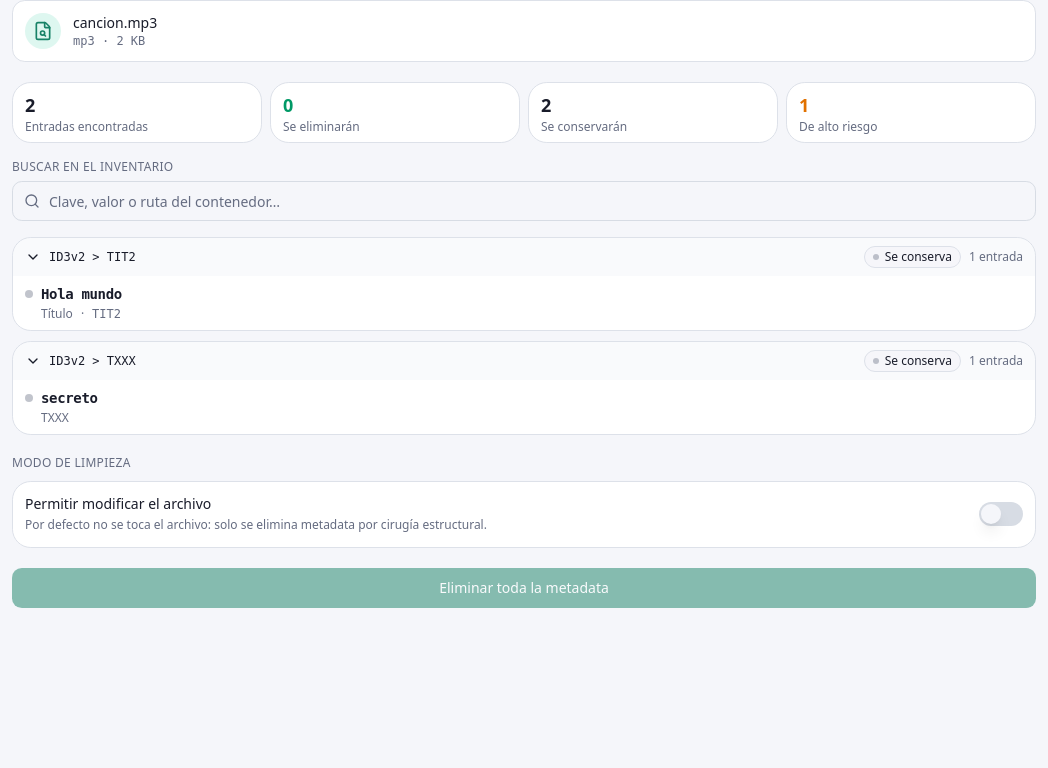
Test case: <MetaStripView /> — inventario › filtra por clave, valor o ruta y muestra el estado sin resultados
This screenshot has width=1048, height=768.
Type "secreto" into the search field labelled "Buscar en el inventario". click: (524, 201)
box: [12,181,1036,221]
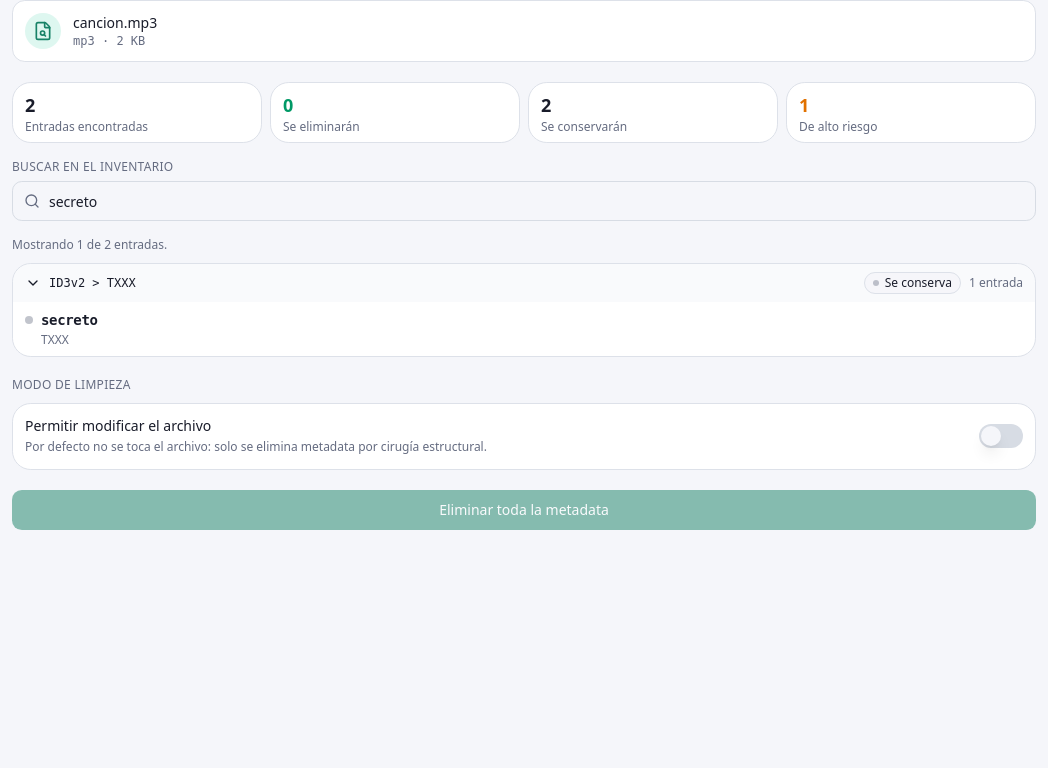
expect the text "secreto" is shown: met, box [41,310,98,330]
expect the text "Hola mundo" is gone: met
Replace the text in the search field labelled "Buscar en el inventario" with "no-existe-xyz". click: (524, 201)
box: [12,181,1036,221]
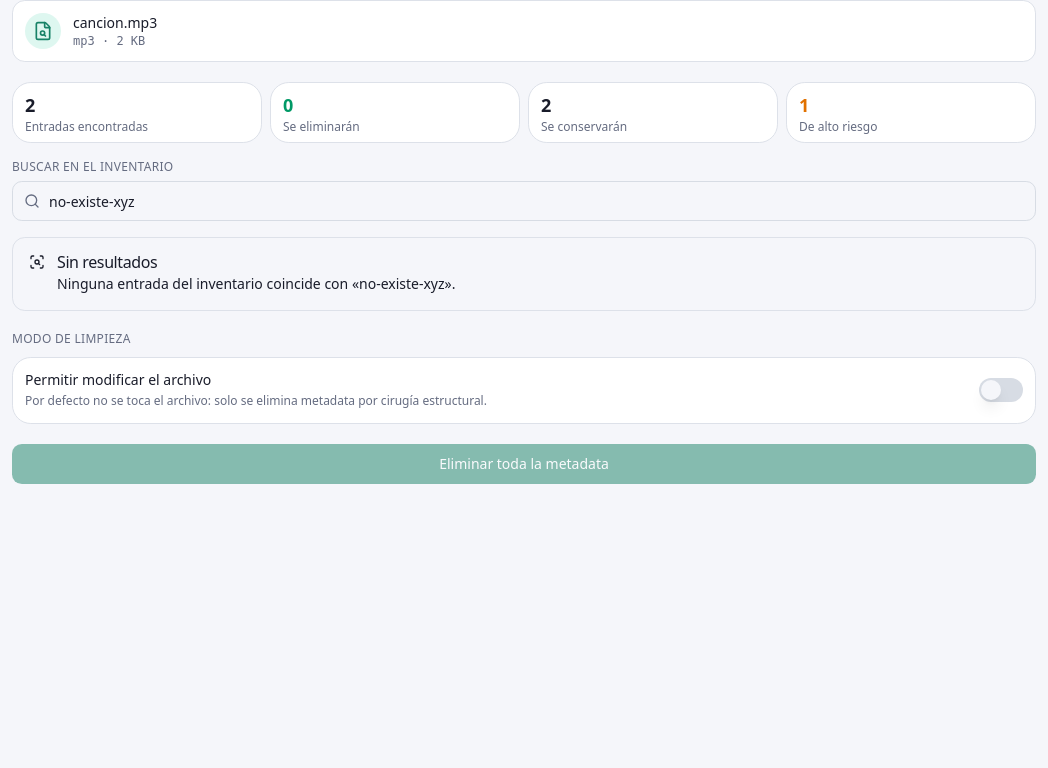
expect the heading "Sin resultados" is shown: met, box [57,251,157,273]
